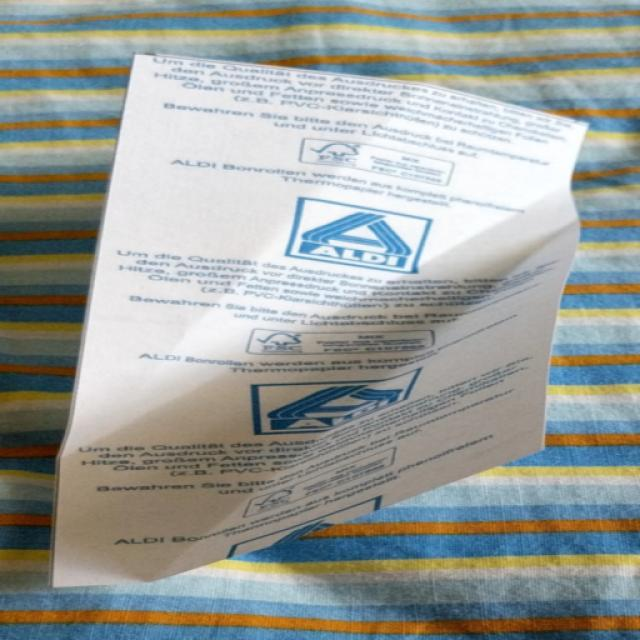document: (53, 56, 585, 585)
